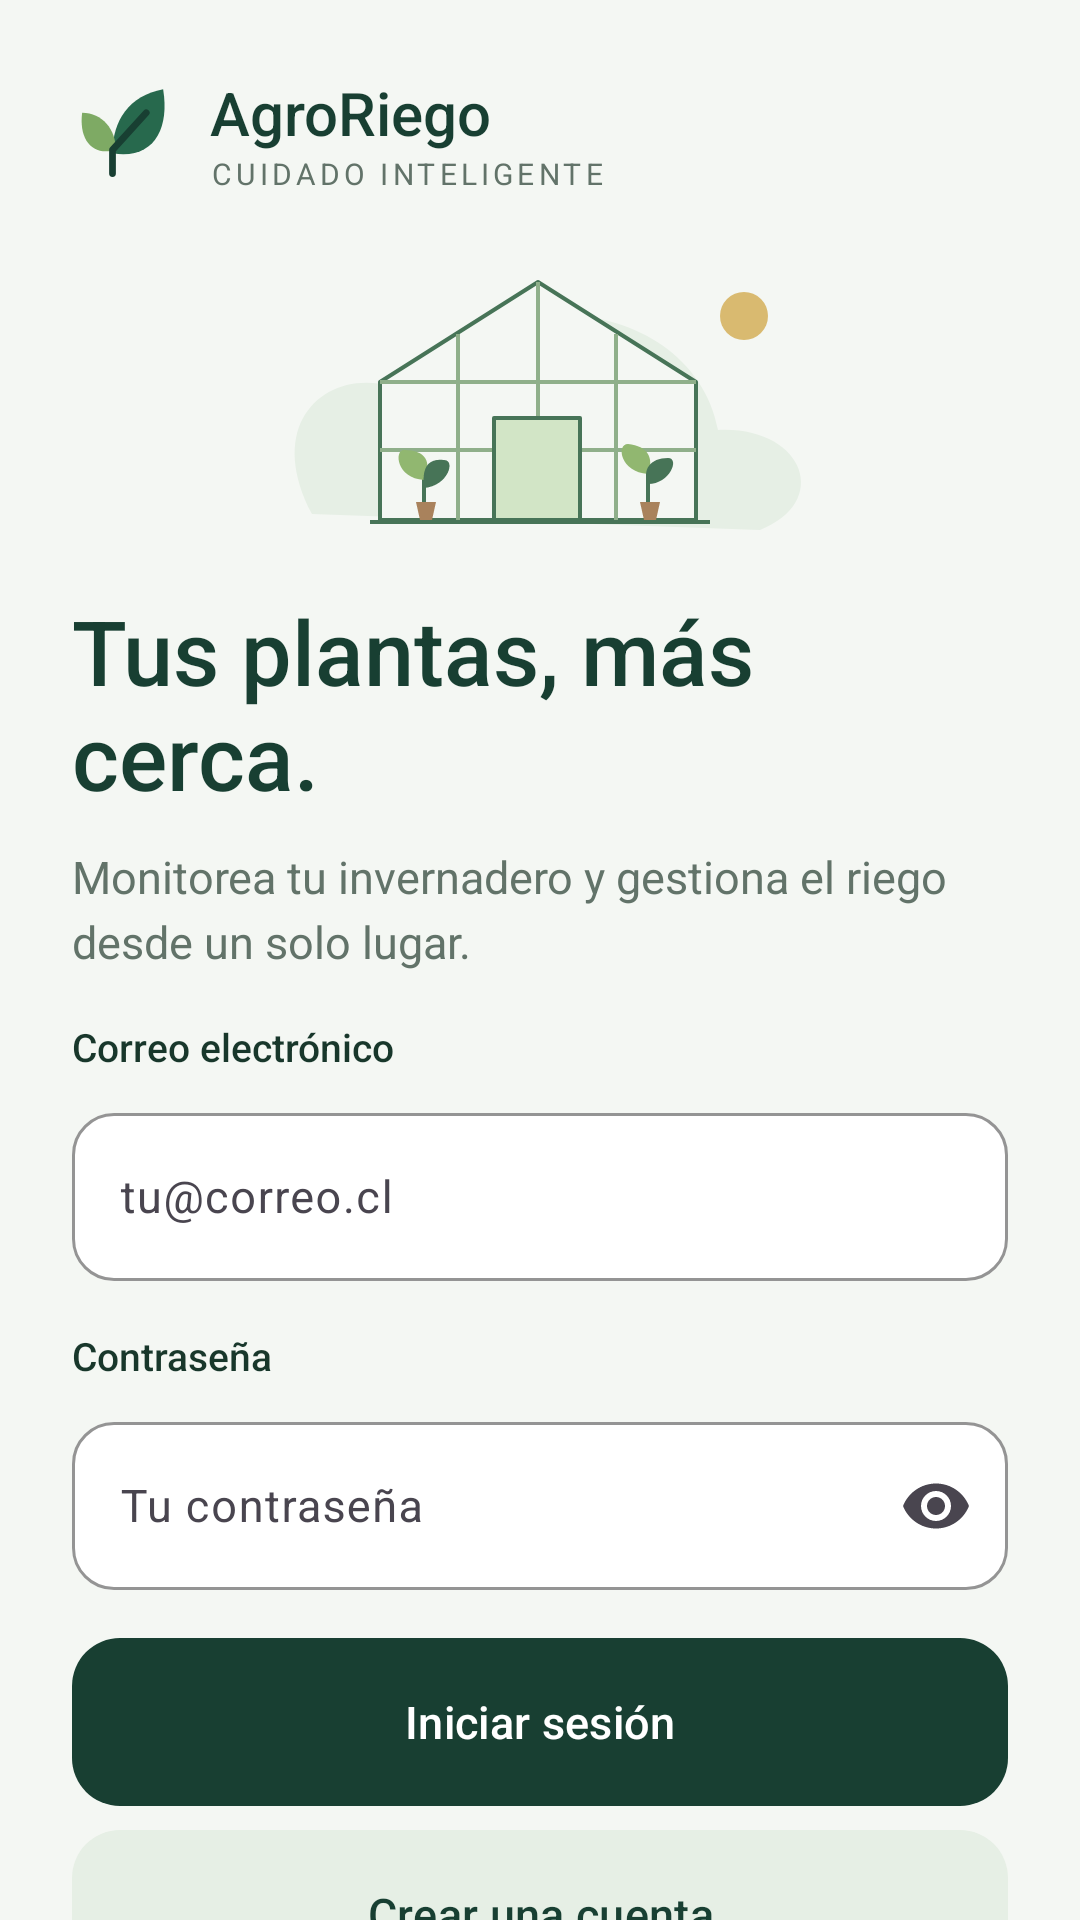

Icons on this 1080x1920 Android screen, each with its box as (x1, y1, x2, y2):
leaf: (81, 89, 165, 177)
